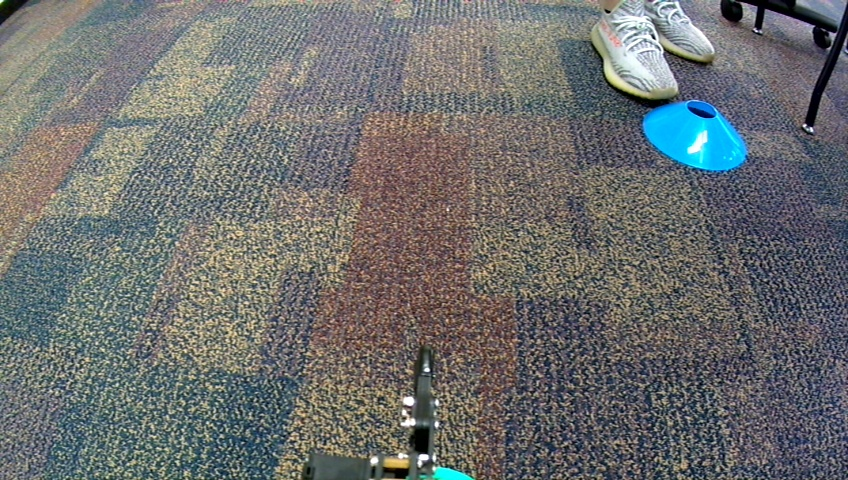cone: (641, 99, 749, 173)
